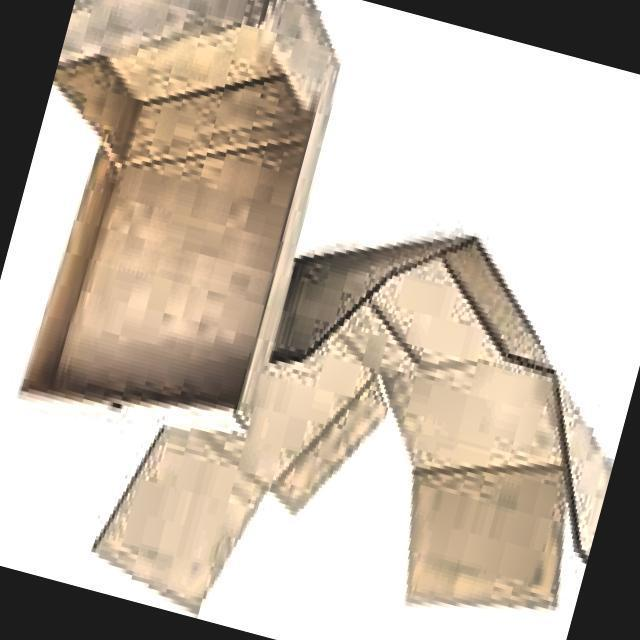cardboard: (81, 162, 640, 640), (0, 0, 367, 467)
